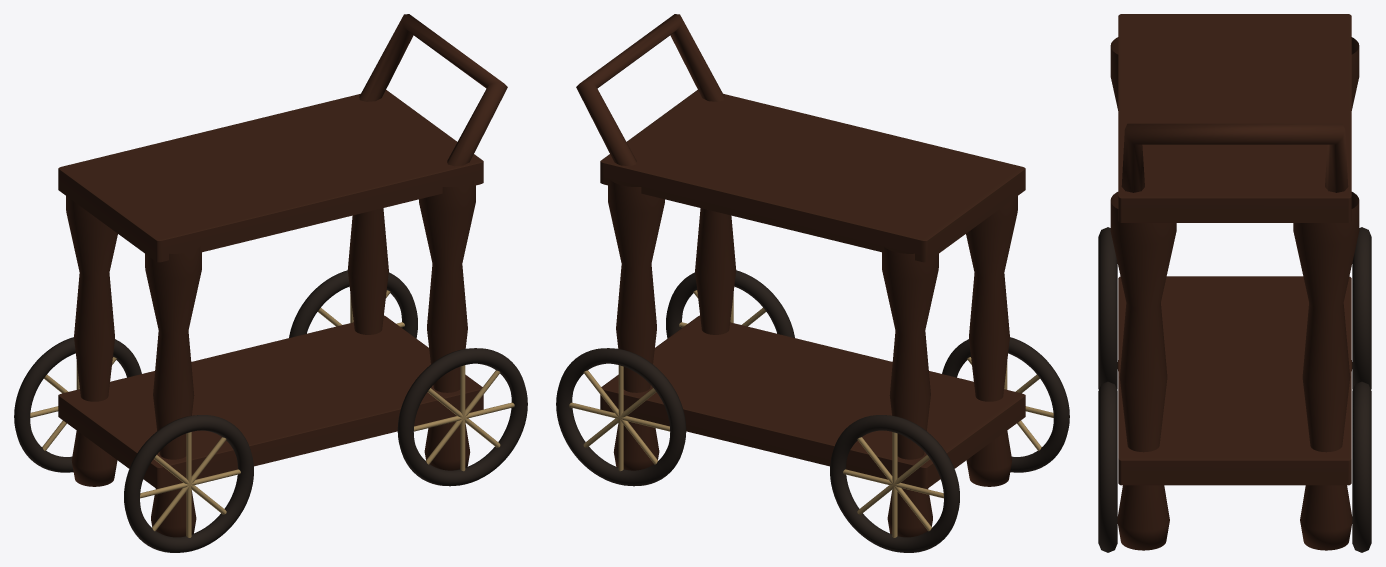
Rendered from Tea_Trolley.fbx.
The picture shows the model from 3 angles, left to right: view 1: azimuth 30°, elevation 25°; view 2: azimuth 150°, elevation 25°; view 3: azimuth 270°, elevation 25°; orthographic projection. The views are drawn at different scales.
Visible parts, largest first — view 1: Trolley shelf.003, Trolley shelf.002, Turned leg.038, Turned leg.040, Turned leg.039, Wheel.006, Wheel.004, Trolley handle.001, Turned leg.041, Wheel.005, Wheel.007; view 2: Trolley shelf.003, Trolley shelf.002, Turned leg.039, Turned leg.041, Turned leg.038, Wheel.007, Wheel.005, Trolley handle.001, Turned leg.040, Wheel.004, Wheel.006; view 3: Trolley shelf.003, Trolley shelf.002, Turned leg.040, Turned leg.041, Trolley handle.001, Wheel.006, Wheel.007, Wheel.004, Wheel.005, Turned leg.038, Turned leg.039.
Part boxes in pixels (x1,y1,x2,y2): Trolley shelf.003: (58,90,483,262); Trolley shelf.002: (58,315,483,488); Turned leg.038: (145,246,201,537); Turned leg.040: (419,180,475,470); Turned leg.039: (66,196,117,486); Wheel.006: (397,348,527,486); Wheel.004: (124,415,253,552); Trolley handle.001: (359,14,507,166); Turned leg.041: (347,208,388,334); Wheel.005: (14,337,141,472); Wheel.007: (289,270,417,338); Trolley shelf.003: (600,90,1025,262); Trolley shelf.002: (600,315,1025,488); Turned leg.039: (882,246,938,537); Turned leg.041: (608,180,664,470); Turned leg.038: (966,196,1017,486); Wheel.007: (556,348,686,486); Wheel.005: (830,415,959,552); Trolley handle.001: (576,14,724,166); Turned leg.040: (695,208,736,334); Wheel.004: (942,337,1069,472); Wheel.006: (666,270,794,338); Trolley shelf.003: (1118,14,1351,222); Trolley shelf.002: (1118,276,1351,485); Turned leg.040: (1110,192,1176,550); Turned leg.041: (1293,192,1359,550); Trolley handle.001: (1121,123,1348,192); Wheel.006: (1098,381,1117,552); Wheel.007: (1352,381,1371,552); Wheel.004: (1098,227,1117,389); Wheel.005: (1352,227,1371,389); Turned leg.038: (1110,37,1118,370); Turned leg.039: (1351,37,1359,370).
Size of the model in its own units: 1.06 by 0.9682 by 0.538.
